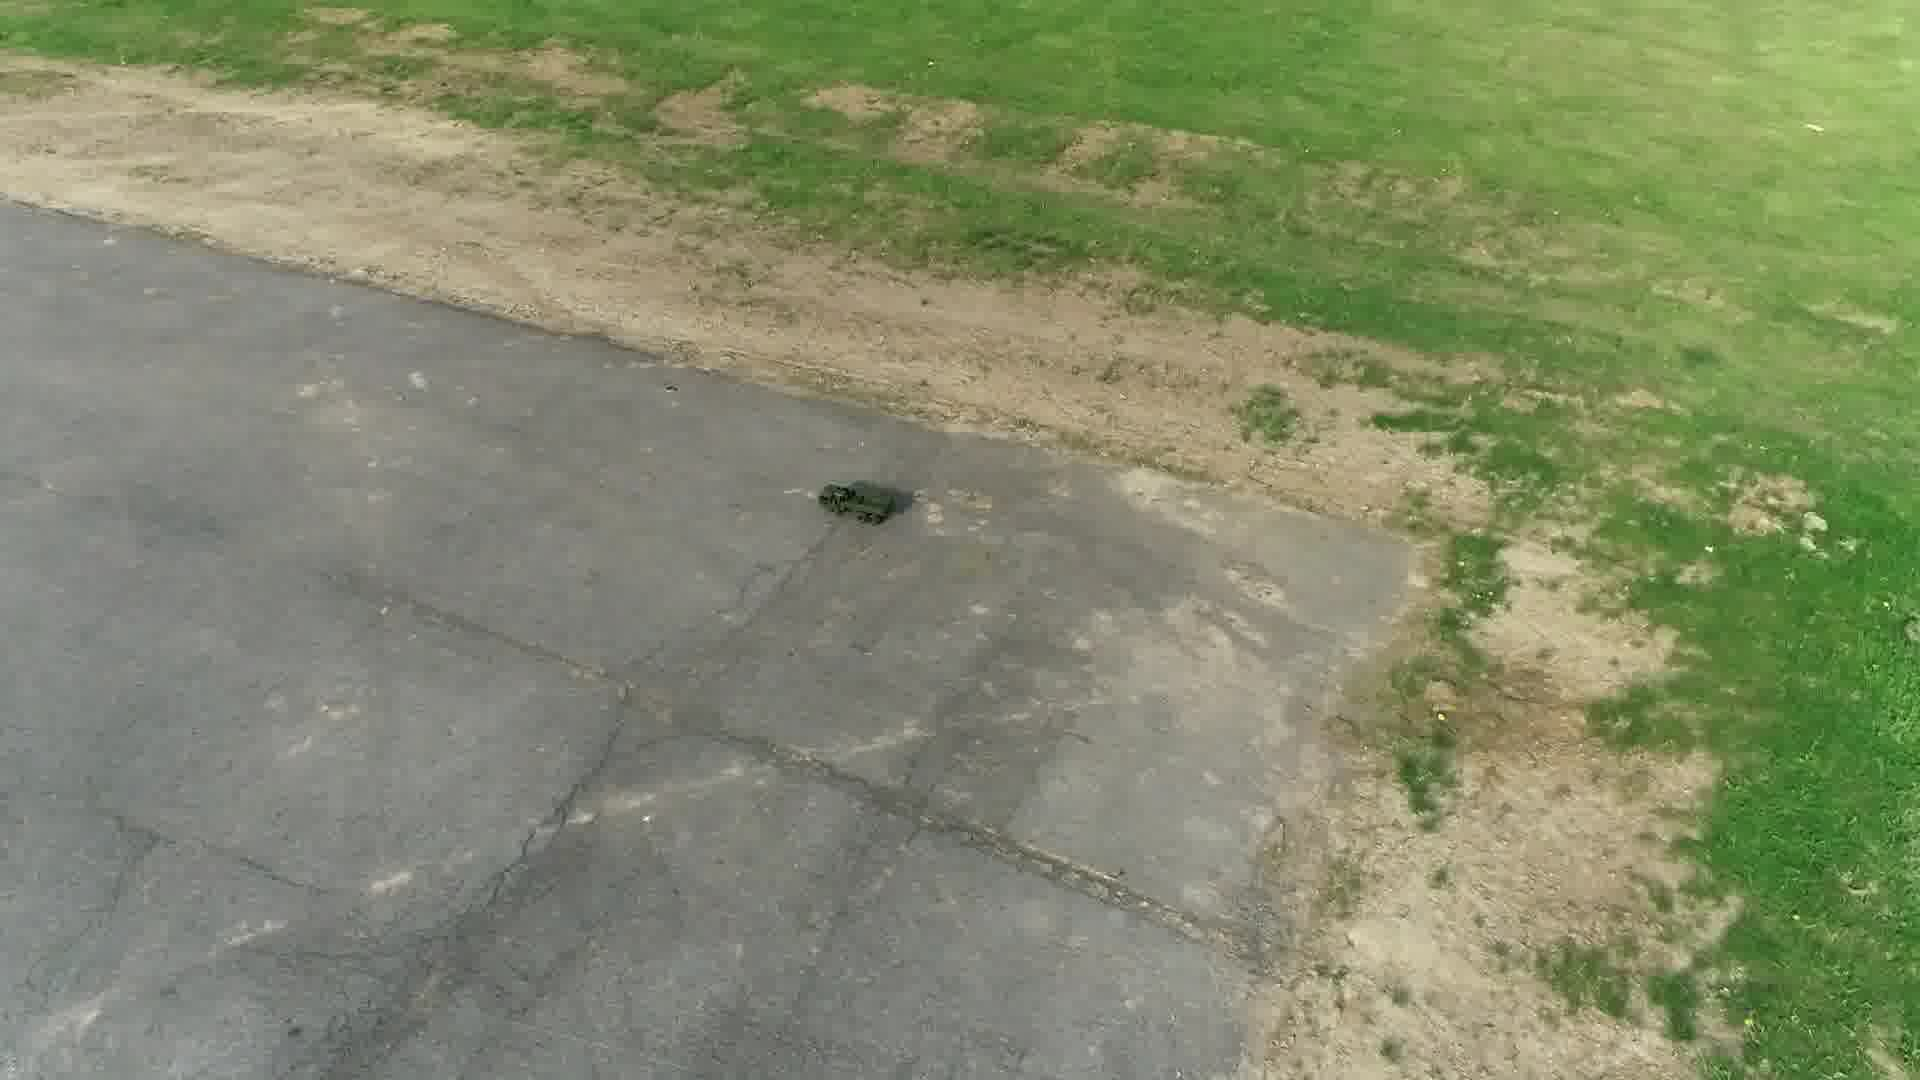transporter9: (814, 481, 897, 527)
